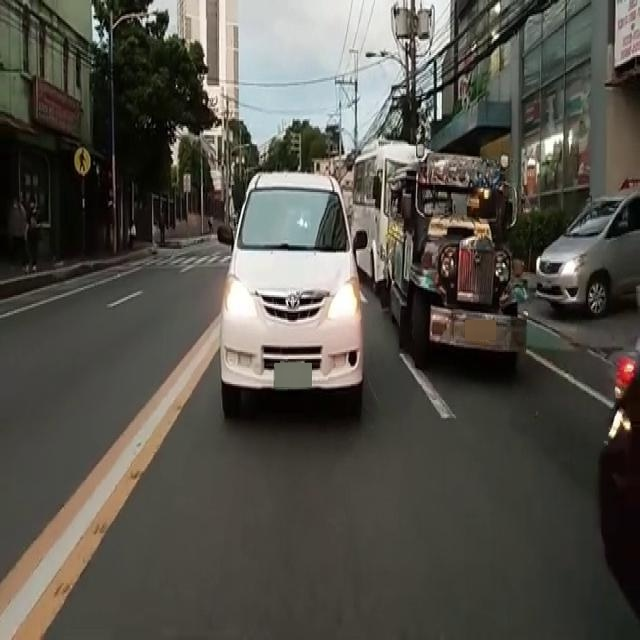car: (208, 179, 370, 415)
jeepney: (379, 163, 529, 366)
